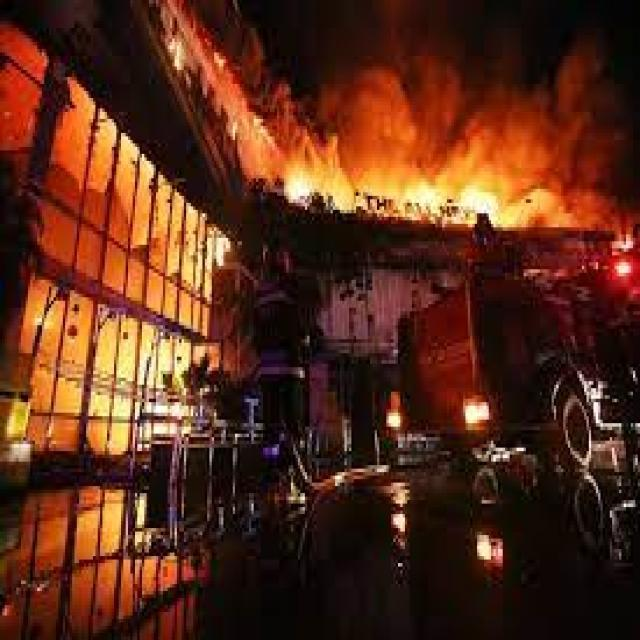Fire: (38, 90, 230, 474), (238, 90, 620, 254)
